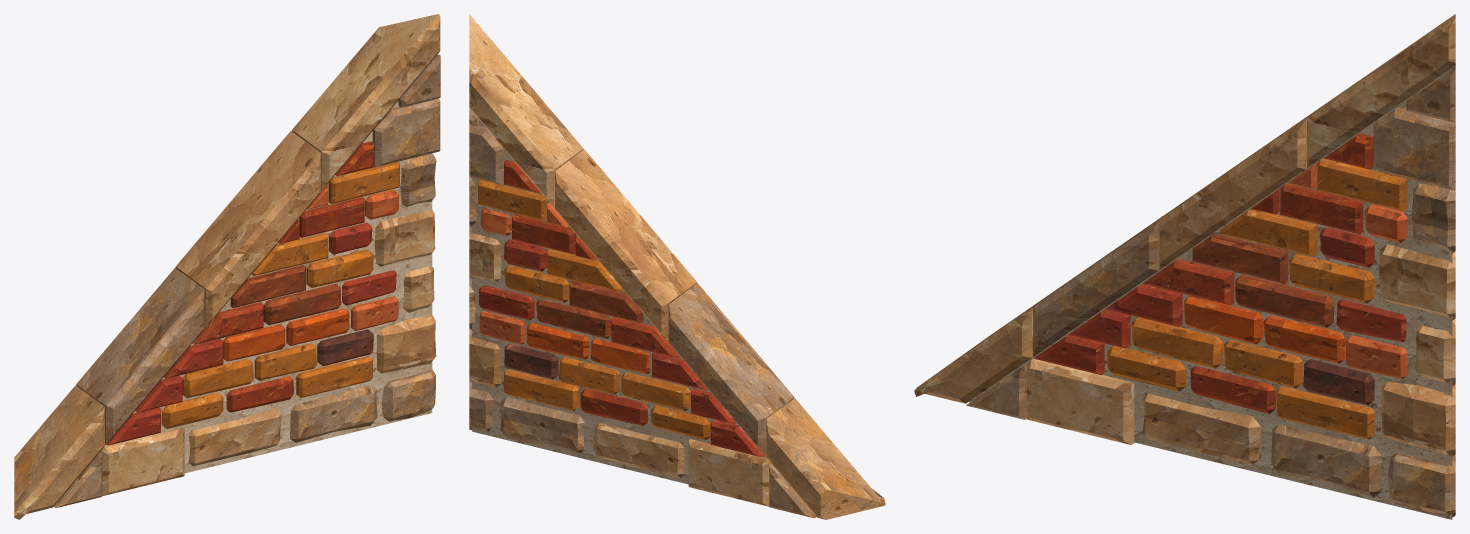
The model's file is sloped_wall__clay_brick.glb.
3 views of the same model, side by side, from view 1: azimuth 30°, elevation 25°; view 2: azimuth 150°, elevation 25°; view 3: azimuth 330°, elevation 25° (orthographic). The views are drawn at different scales.
Visible parts, largest first — view 1: model; view 2: model; view 3: model.
Part boxes in pixels (bbox=[...]): model: bbox=[14, 14, 440, 519]; model: bbox=[469, 14, 885, 519]; model: bbox=[914, 14, 1455, 519].
Size of the model in its own units: 1.97 by 1.78 by 0.2869.
13 materials, 13 textured.
